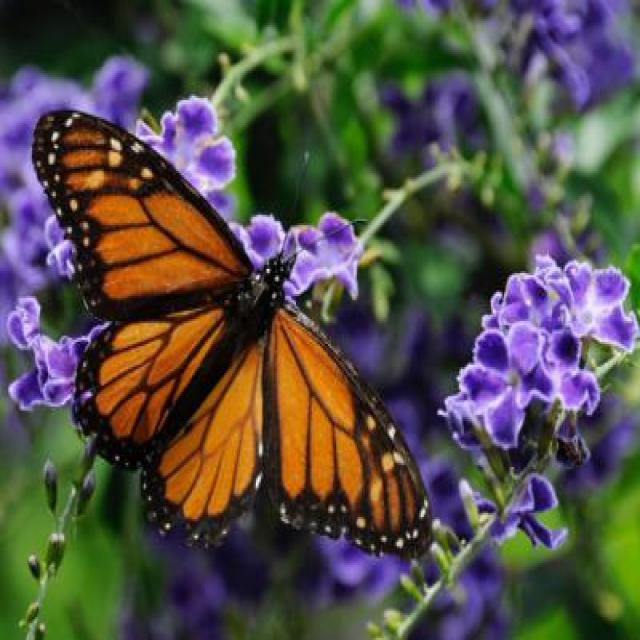antennae: (268, 133, 379, 263)
body: (130, 246, 290, 471)
insect: (33, 106, 434, 559)
wings: (35, 108, 248, 464), (147, 306, 436, 558)
